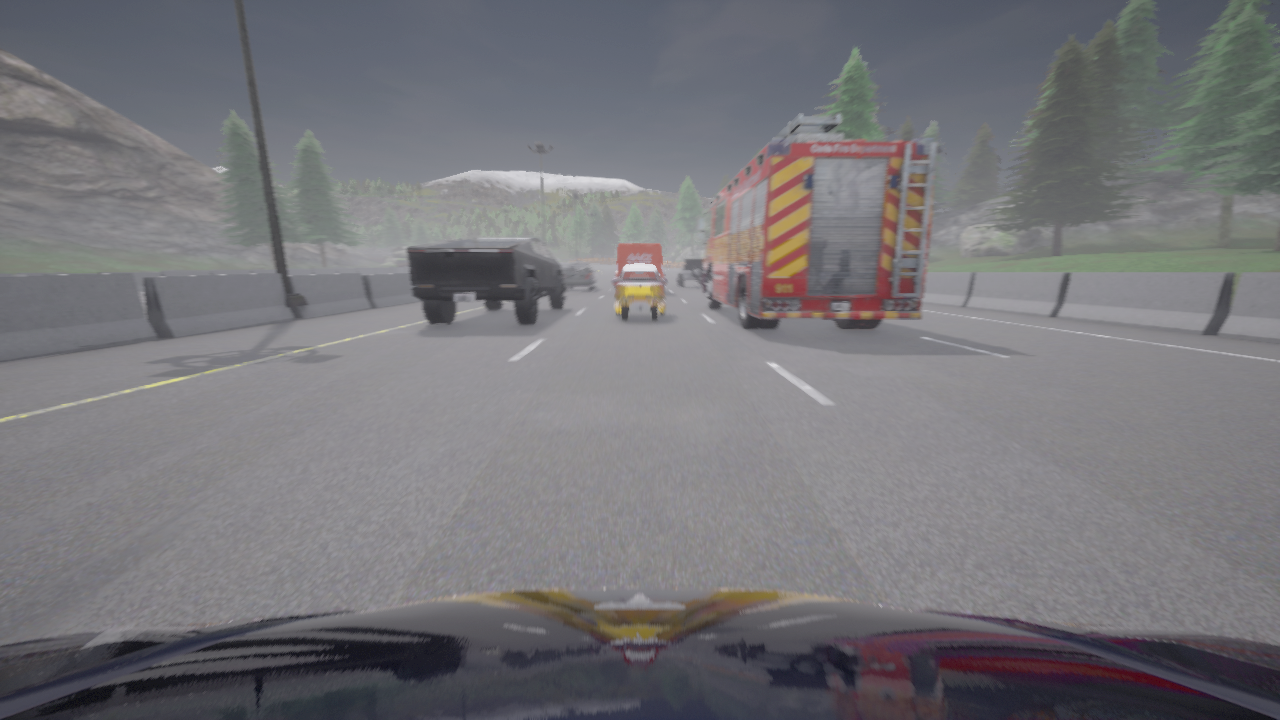cyclist: (0, 588, 1279, 719), (697, 115, 936, 329), (407, 237, 565, 324), (612, 265, 666, 321), (615, 244, 664, 290), (564, 263, 596, 291), (677, 258, 704, 287)
